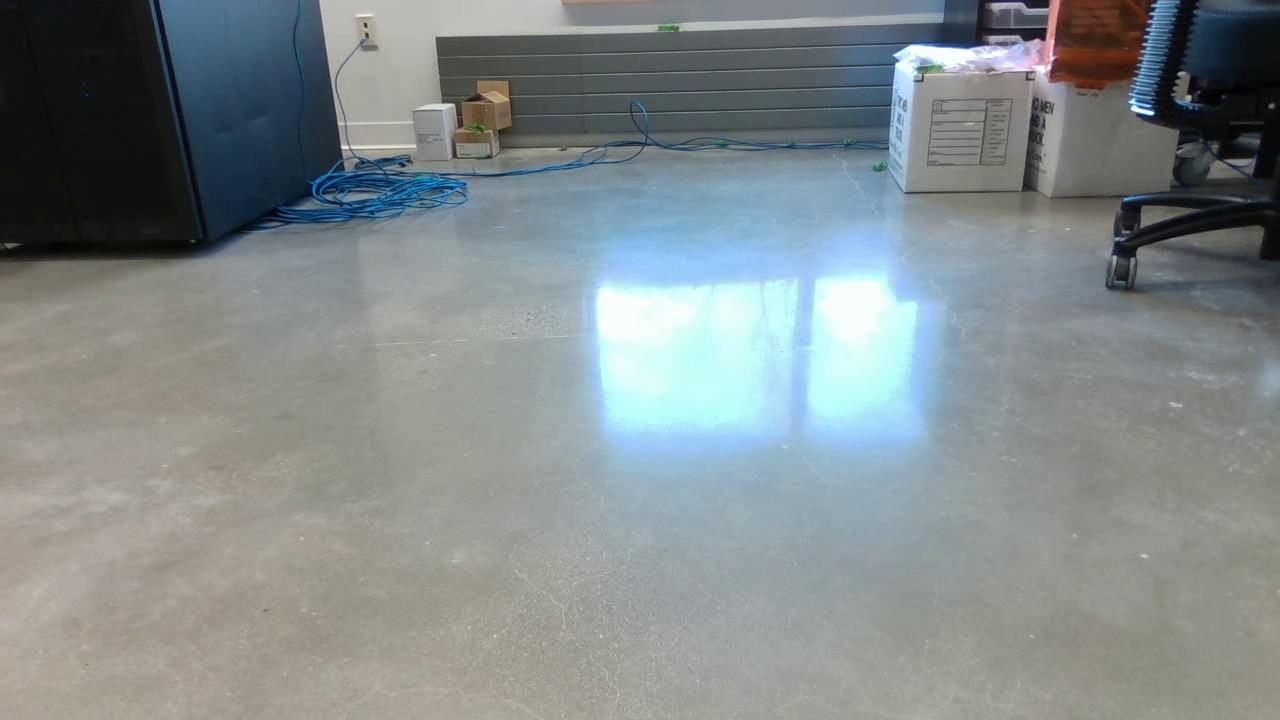grasshopper: (651, 20, 687, 34), (460, 119, 492, 134), (861, 158, 890, 173), (840, 136, 861, 153), (911, 65, 945, 75), (706, 136, 738, 146)
